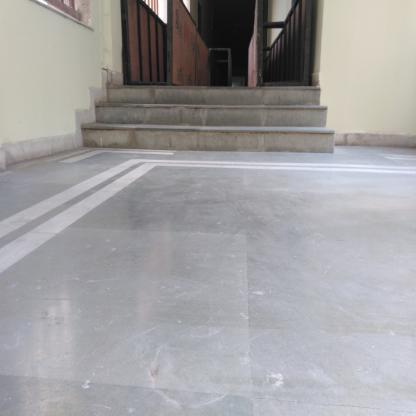stairs: (113, 83, 316, 159)
